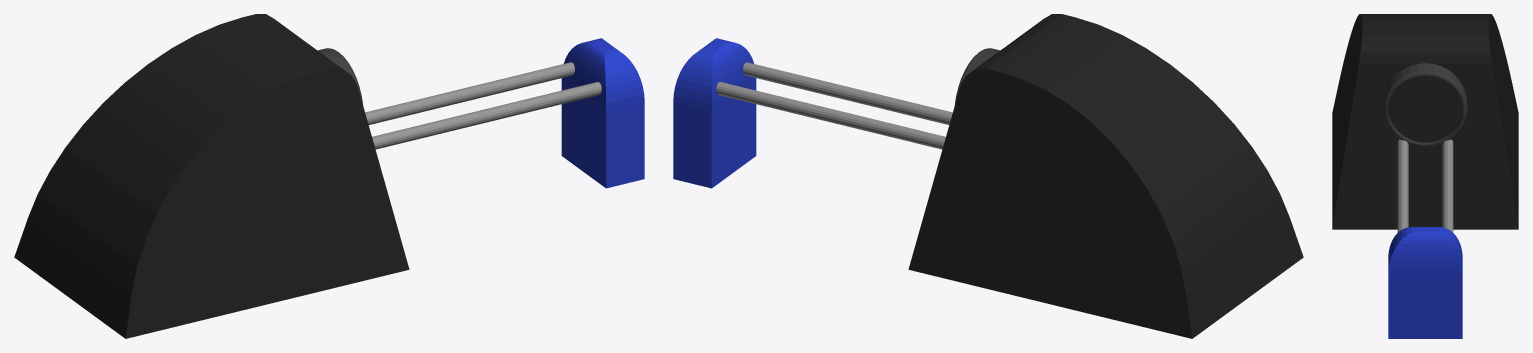
File: ball_thrower.fbx
3 views of the same model, side by side, from view 1: azimuth 30°, elevation 25°; view 2: azimuth 150°, elevation 25°; view 3: azimuth 270°, elevation 25° (orthographic). The views are drawn at different scales.
Visible parts, largest first — view 1: BowlingThrower; view 2: BowlingThrower; view 3: BowlingThrower.
Boxes of the visible parts, box(x1,y1,x2,y2) form: BowlingThrower: box(14, 14, 644, 338); BowlingThrower: box(673, 14, 1303, 338); BowlingThrower: box(1332, 14, 1518, 338).
Bounding box in the file's own units: 286 × 100 × 100.
